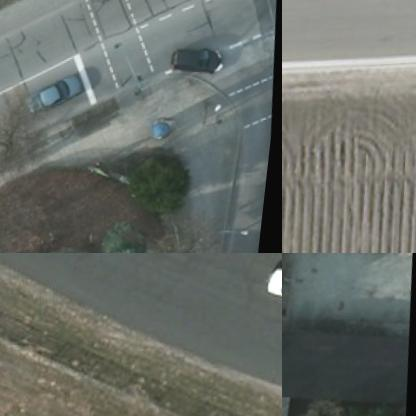car: (26, 70, 86, 110), (170, 39, 226, 77), (264, 262, 281, 311)
